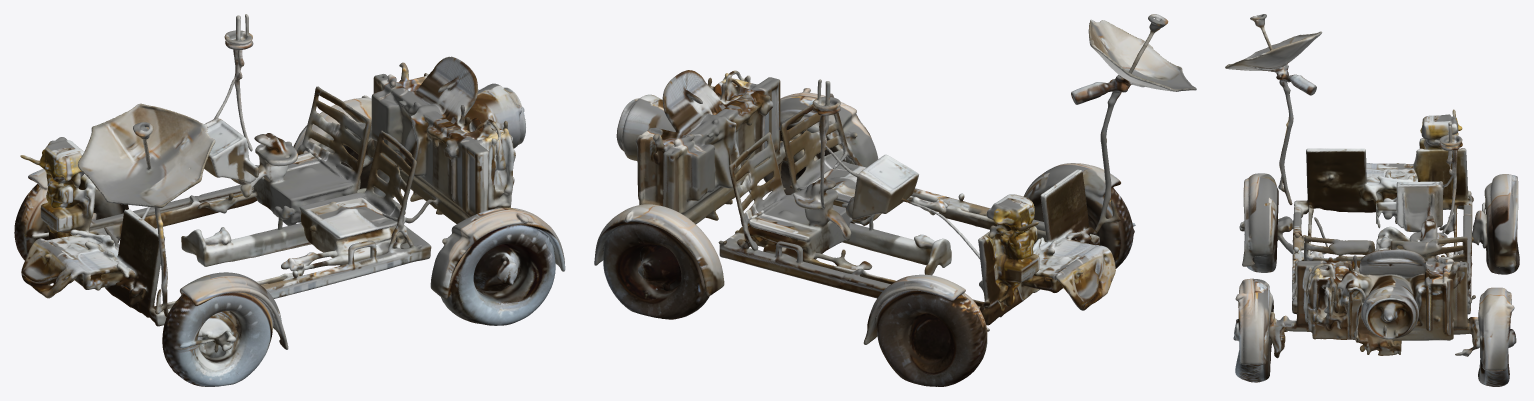
Rendered from lunar rover 3d model.glb.
3 renders of one model, left to right at view 1: azimuth 30°, elevation 25°; view 2: azimuth 150°, elevation 25°; view 3: azimuth 270°, elevation 25°, orthographic. The views are drawn at different scales.
Parts seen in each view (by area): view 1: tripo_node_2cb33dac-5ec7-4151-883a-dbc2399b5a4a; view 2: tripo_node_2cb33dac-5ec7-4151-883a-dbc2399b5a4a; view 3: tripo_node_2cb33dac-5ec7-4151-883a-dbc2399b5a4a.
Boxes of the visible parts, box(x1,y1,x2,y2) form: tripo_node_2cb33dac-5ec7-4151-883a-dbc2399b5a4a: box(14, 14, 565, 386); tripo_node_2cb33dac-5ec7-4151-883a-dbc2399b5a4a: box(594, 14, 1196, 386); tripo_node_2cb33dac-5ec7-4151-883a-dbc2399b5a4a: box(1225, 14, 1519, 386).
Size of the model in its own units: 1 by 0.5268 by 0.6329.
1 material, 1 textured.
